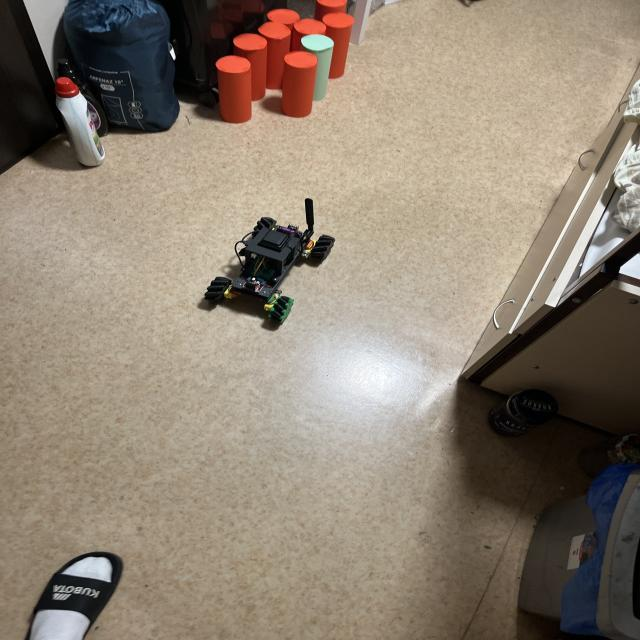robot: (203, 198, 335, 324)
